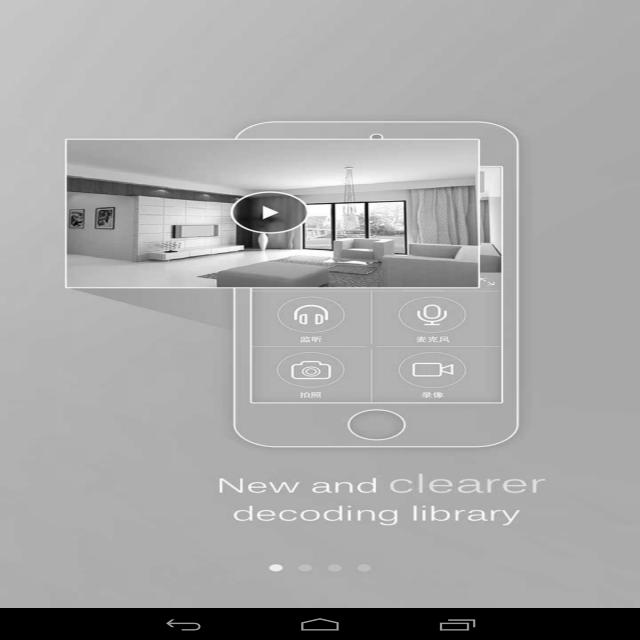ImageView: (69, 134, 482, 290)
TextView: (210, 475, 545, 528)
